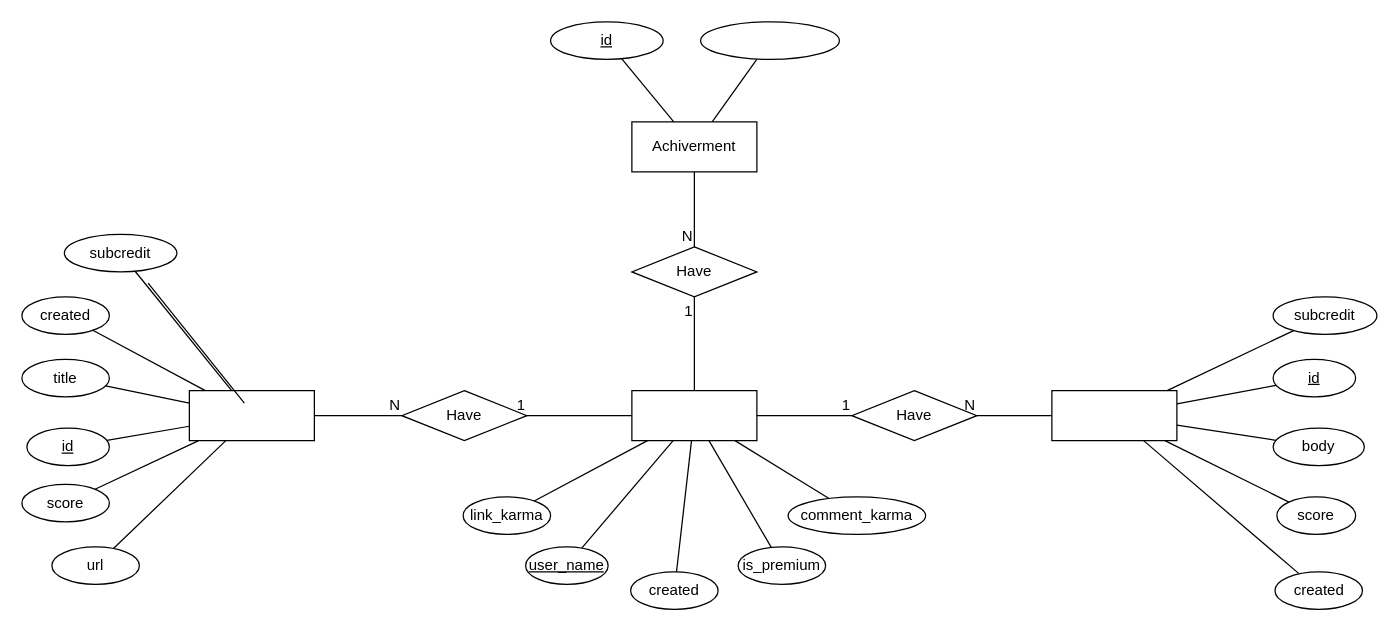
Image size: 1399x631. Some labels were removed from this diagram. The shapes that lost their labels are listed below. From the top down, each one's centre as x and y in pixels, then its label:
At (x=769, y=40): "name".
At (x=251, y=415): "Post".
At (x=694, y=415): "User".
At (x=1114, y=415): "Comment".
